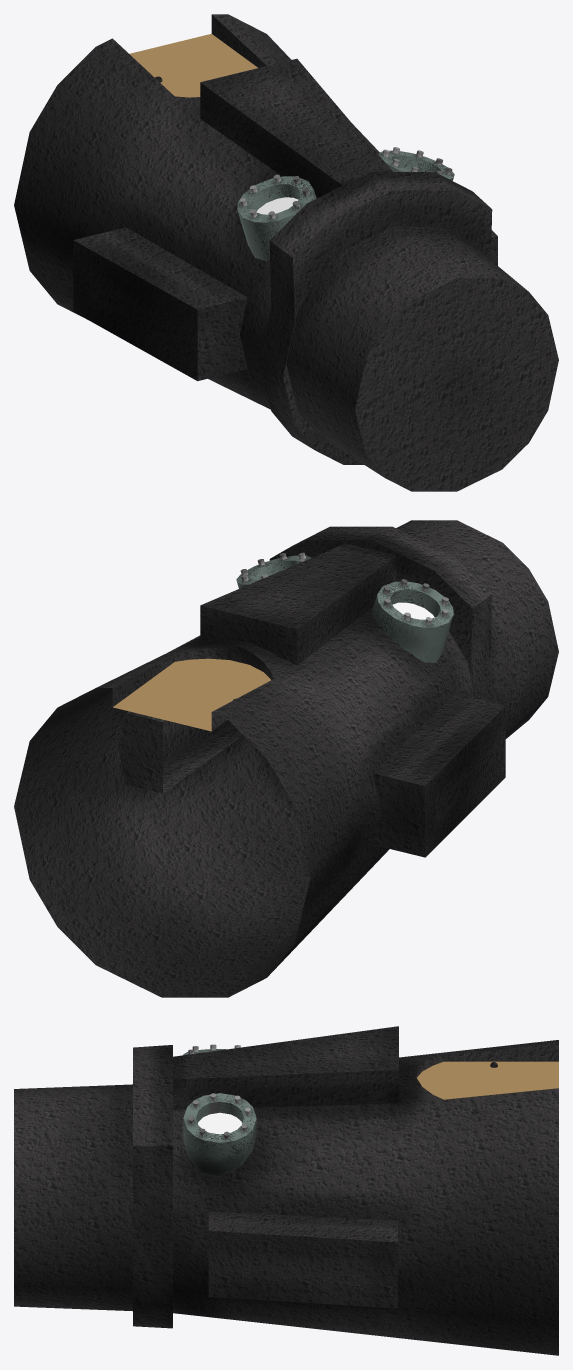
File: SquidHouse.obj
3 renders of one model, top to bottom at view 1: azimuth 30°, elevation 25°; view 2: azimuth 150°, elevation 25°; view 3: azimuth 270°, elevation 25°, orthographic. The views are drawn at different scales.
Visible parts, largest first — view 1: Object_2, Object_4, Object_3; view 2: Object_2, Object_3, Object_4; view 3: Object_2, Object_4, Object_3, Object_5.
Part boxes in pixels (x1,y1,x2,y2): Object_2: (14, 14, 558, 491); Object_4: (237, 147, 454, 261); Object_3: (129, 34, 257, 97); Object_2: (14, 520, 558, 997); Object_3: (113, 658, 270, 731); Object_4: (236, 552, 453, 662); Object_2: (14, 1026, 558, 1355); Object_4: (183, 1044, 256, 1175); Object_3: (417, 1061, 558, 1099); Object_5: (198, 1112, 242, 1134).
Size of the model in its own units: 2.38 by 2.07 by 3.49.
Materials: 4 (3 with a texture image).
